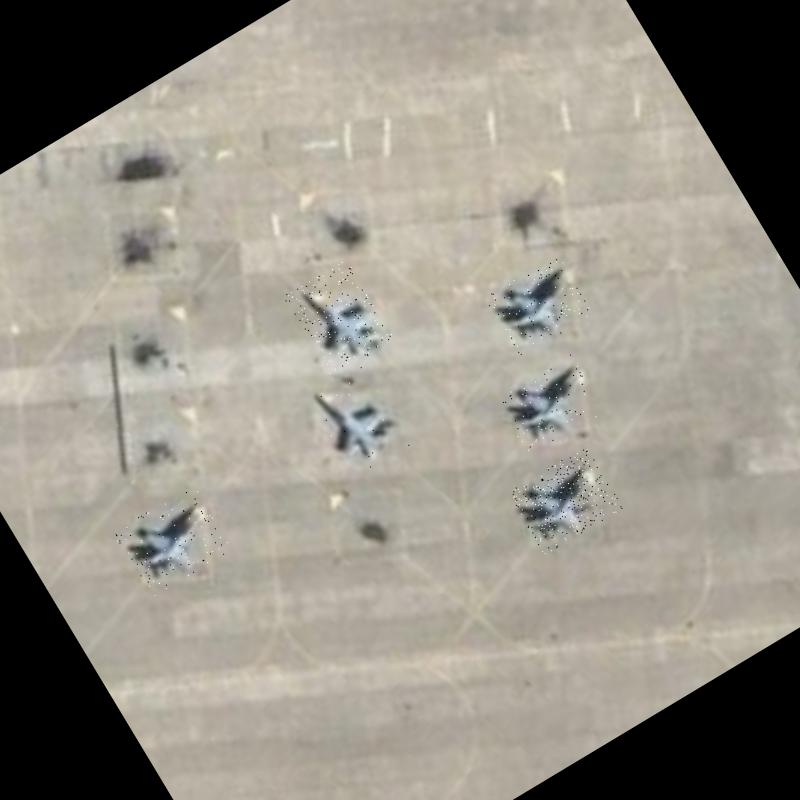A16: (297, 356, 410, 480), (112, 484, 233, 598), (282, 258, 394, 378), (507, 445, 623, 555), (484, 253, 594, 357), (494, 353, 605, 456)
